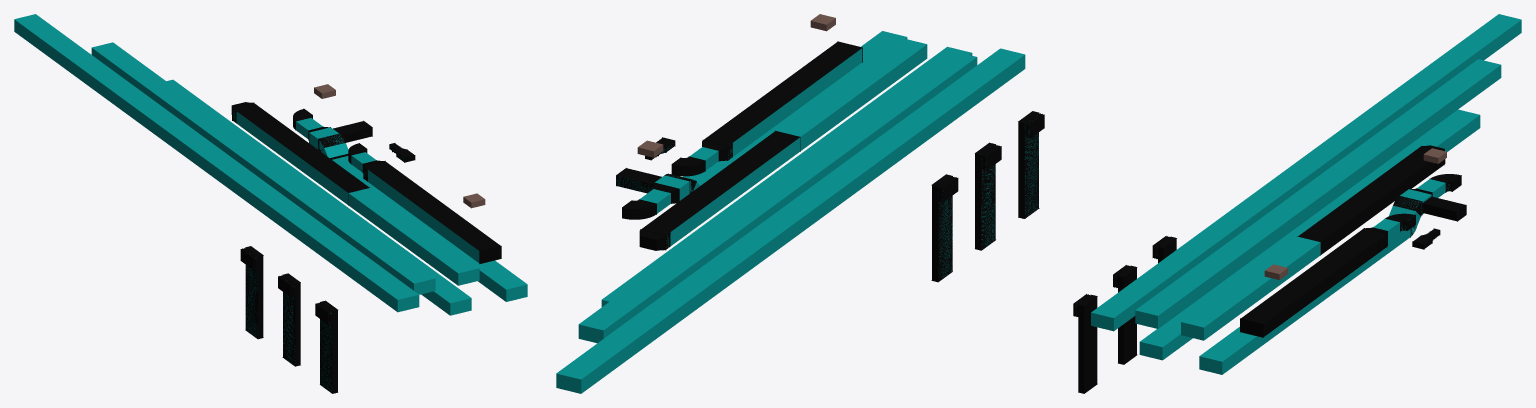
File: GCC-AAV-13220-30.nwd(26).fbx
The picture shows the model from 3 angles, left to right: view 1: azimuth 30°, elevation 25°; view 2: azimuth 150°, elevation 25°; view 3: azimuth 330°, elevation 25°; orthographic projection. The views are drawn at different scales.
Visible parts, largest first — view 1: Параллелепипед (×6), STRT 3 of BRANCH /794-13220-BD-001-EF-301C-EA-0001-010, STRT 3 of BRANCH /794-13220-BD-001-EF-301B-EA-0001-001, STRT 1 of BRANCH /794-13220-BD-001-SSN-301-SAA-0024-001, STRT 1 of BRANCH /794-13220-BD-001-SSN-301-SAA-0025-001, STRT 1 of BRANCH /794-13220-BD-001-SSN-301-SAA-0026-001, STRT 3 of BRANCH /794-13220-BD-001-AHU-301D-SAA-0001-001; view 2: Параллелепипед (×6), STRT 3 of BRANCH /794-13220-BD-001-EF-301C-EA-0001-010, STRT 3 of BRANCH /794-13220-BD-001-EF-301B-EA-0001-001, STRT 1 of BRANCH /794-13220-BD-001-SSN-301-SAA-0026-001, STRT 1 of BRANCH /794-13220-BD-001-SSN-301-SAA-0025-001, STRT 1 of BRANCH /794-13220-BD-001-SSN-301-SAA-0024-001, STRT 3 of BRANCH /794-13220-BD-001-AHU-301D-SAA-0001-001, ELBOW 3 of BRANCH /794-13220-BD-001-AHU-301D-SAA-0001-011, ELBOW 2 of BRANCH /794-13220-BD-001-EF-301C-EA-0001-010, TAPER 7 of BRANCH /794-13220-BD-001-EF-301B-EA-0001-001; view 3: Параллелепипед (×5), STRT 3 of BRANCH /794-13220-BD-001-EF-301C-EA-0001-010, STRT 3 of BRANCH /794-13220-BD-001-EF-301B-EA-0001-001, STRT 1 of BRANCH /794-13220-BD-001-SSN-301-SAA-0026-001, STRT 1 of BRANCH /794-13220-BD-001-SSN-301-SAA-0025-001, STRT 3 of BRANCH /794-13220-BD-001-AHU-301D-SAA-0001-001.
Part boxes in pixels (<box>): Параллелепипед (×6): <box>14,14,527,315</box>; STRT 3 of BRANCH /794-13220-BD-001-EF-301C-EA-0001-010: <box>363,161,501,263</box>; STRT 3 of BRANCH /794-13220-BD-001-EF-301B-EA-0001-001: <box>232,102,370,205</box>; STRT 1 of BRANCH /794-13220-BD-001-SSN-301-SAA-0024-001: <box>245,255,263,338</box>; STRT 1 of BRANCH /794-13220-BD-001-SSN-301-SAA-0025-001: <box>282,283,300,366</box>; STRT 1 of BRANCH /794-13220-BD-001-SSN-301-SAA-0026-001: <box>320,310,337,393</box>; STRT 3 of BRANCH /794-13220-BD-001-AHU-301D-SAA-0001-001: <box>333,120,372,142</box>; Параллелепипед (×6): <box>556,31,1025,393</box>; STRT 3 of BRANCH /794-13220-BD-001-EF-301C-EA-0001-010: <box>704,41,862,159</box>; STRT 3 of BRANCH /794-13220-BD-001-EF-301B-EA-0001-001: <box>641,130,800,249</box>; STRT 1 of BRANCH /794-13220-BD-001-SSN-301-SAA-0026-001: <box>1018,122,1039,218</box>; STRT 1 of BRANCH /794-13220-BD-001-SSN-301-SAA-0025-001: <box>975,153,995,250</box>; STRT 1 of BRANCH /794-13220-BD-001-SSN-301-SAA-0024-001: <box>931,185,952,282</box>; STRT 3 of BRANCH /794-13220-BD-001-AHU-301D-SAA-0001-001: <box>616,168,661,193</box>; ELBOW 3 of BRANCH /794-13220-BD-001-AHU-301D-SAA-0001-011: <box>622,199,656,219</box>; ELBOW 2 of BRANCH /794-13220-BD-001-EF-301C-EA-0001-010: <box>671,156,705,176</box>; TAPER 7 of BRANCH /794-13220-BD-001-EF-301B-EA-0001-001: <box>639,229,665,250</box>; Параллелепипед (×5): <box>1091,14,1521,374</box>; STRT 3 of BRANCH /794-13220-BD-001-EF-301C-EA-0001-010: <box>1240,228,1387,337</box>; STRT 3 of BRANCH /794-13220-BD-001-EF-301B-EA-0001-001: <box>1297,146,1443,255</box>; STRT 1 of BRANCH /794-13220-BD-001-SSN-301-SAA-0026-001: <box>1078,297,1097,393</box>; STRT 1 of BRANCH /794-13220-BD-001-SSN-301-SAA-0025-001: <box>1118,268,1137,364</box>; STRT 3 of BRANCH /794-13220-BD-001-AHU-301D-SAA-0001-001: <box>1422,196,1466,221</box>.
Size of the model in its own units: 764 by 487 by 2449.
